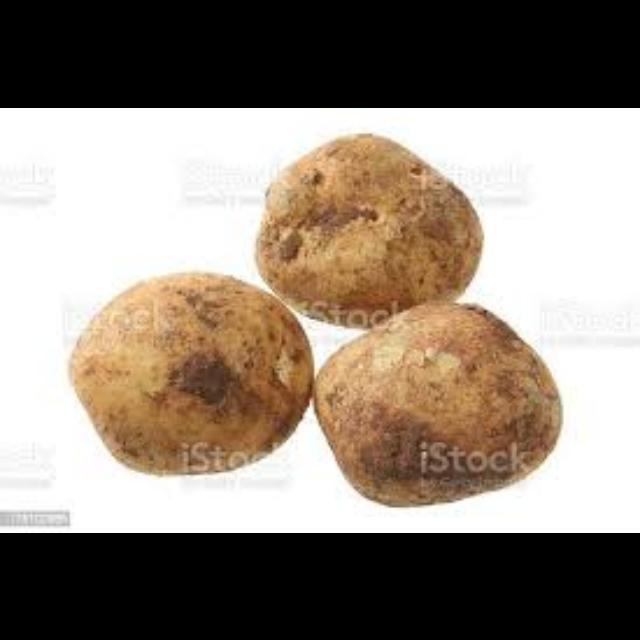Damaged potato: (306, 301, 570, 505), (70, 270, 320, 476), (245, 131, 489, 317)
